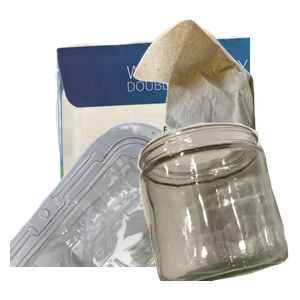glass: (135, 120, 300, 300)
paper: (52, 34, 292, 214)
plastic: (10, 120, 250, 300)
trash: (131, 17, 300, 197)
